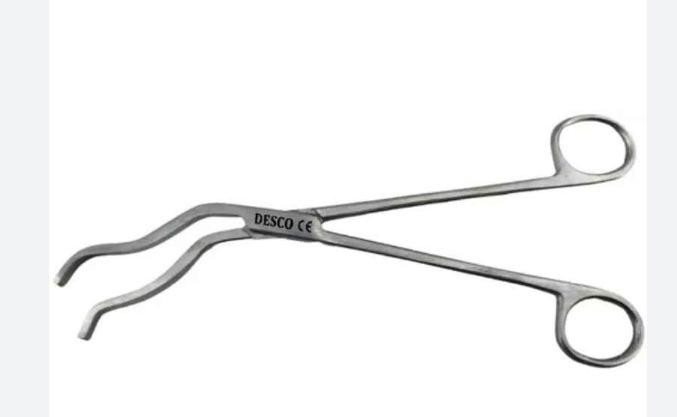Cheatle Forceps: (51, 113, 650, 371)
